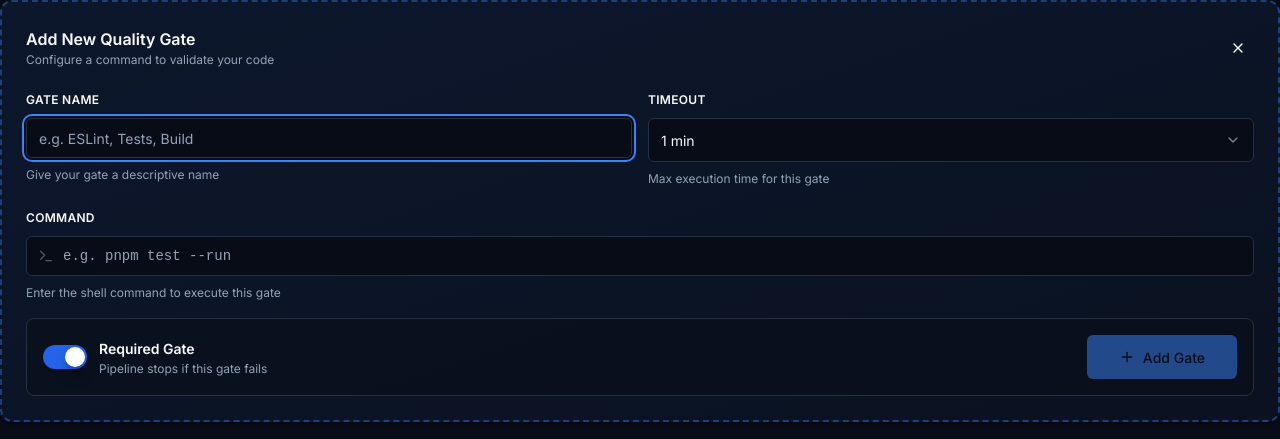
Scenario: AddGateForm › enables submit button when name and command are filled
In the field labelled "Gate Name": (329, 138) x1=26 y1=118 x2=632 y2=158, type "ESLint"
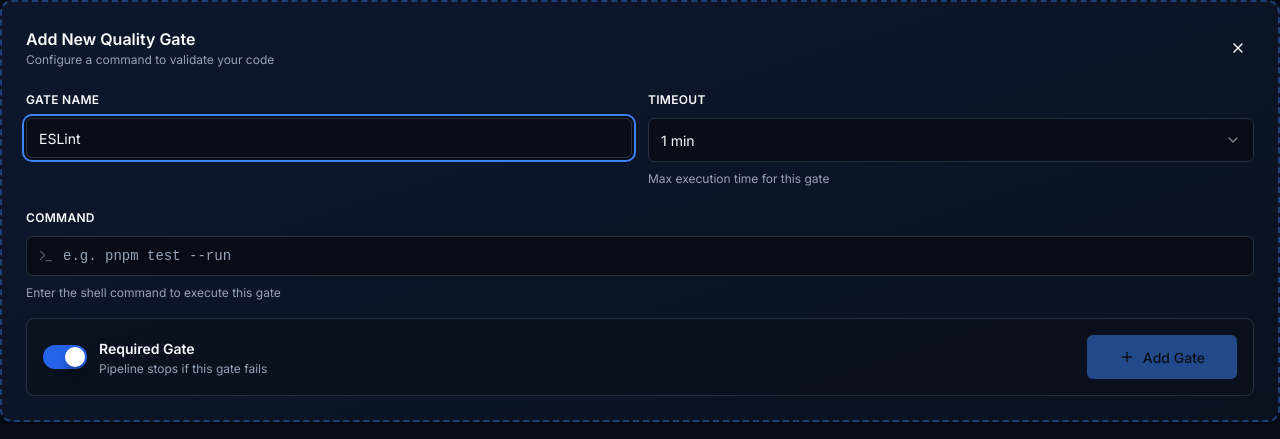
In the field labelled "Command": (640, 256) x1=26 y1=236 x2=1254 y2=276, type "pnpm lint"
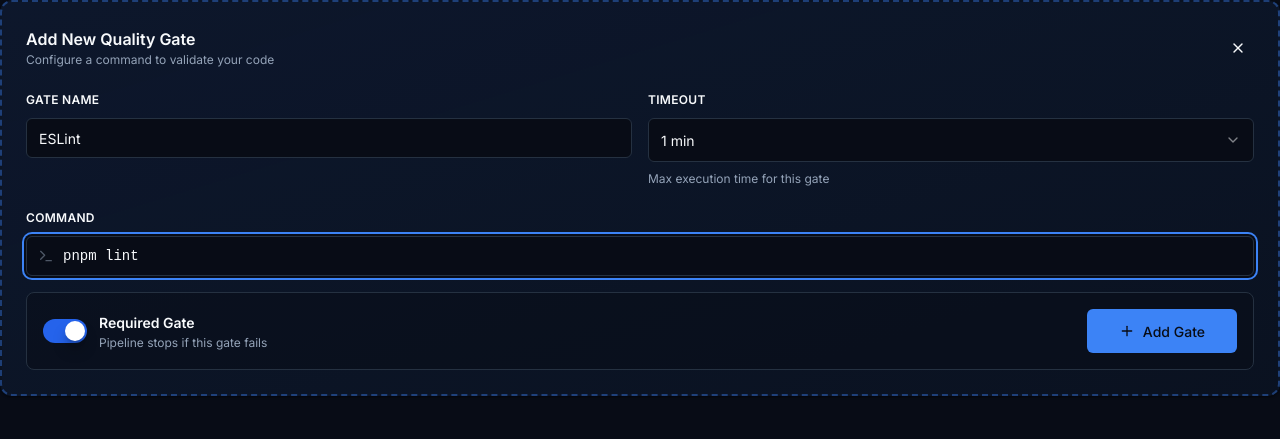
Expected: the button "Add Gate" is enabled, x1=1087 y1=309 x2=1237 y2=353
